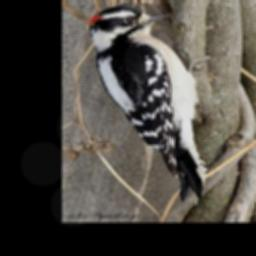Woodpecker: (88, 4, 209, 202)
